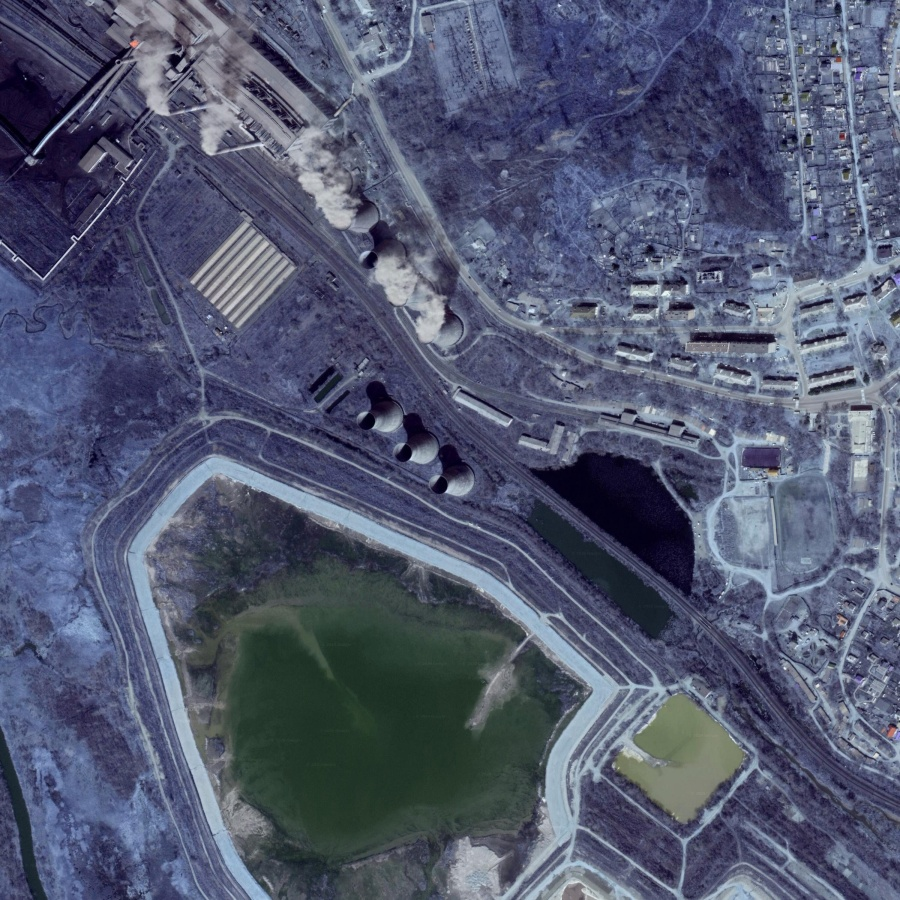PowerPlant: (295, 136, 509, 509)
